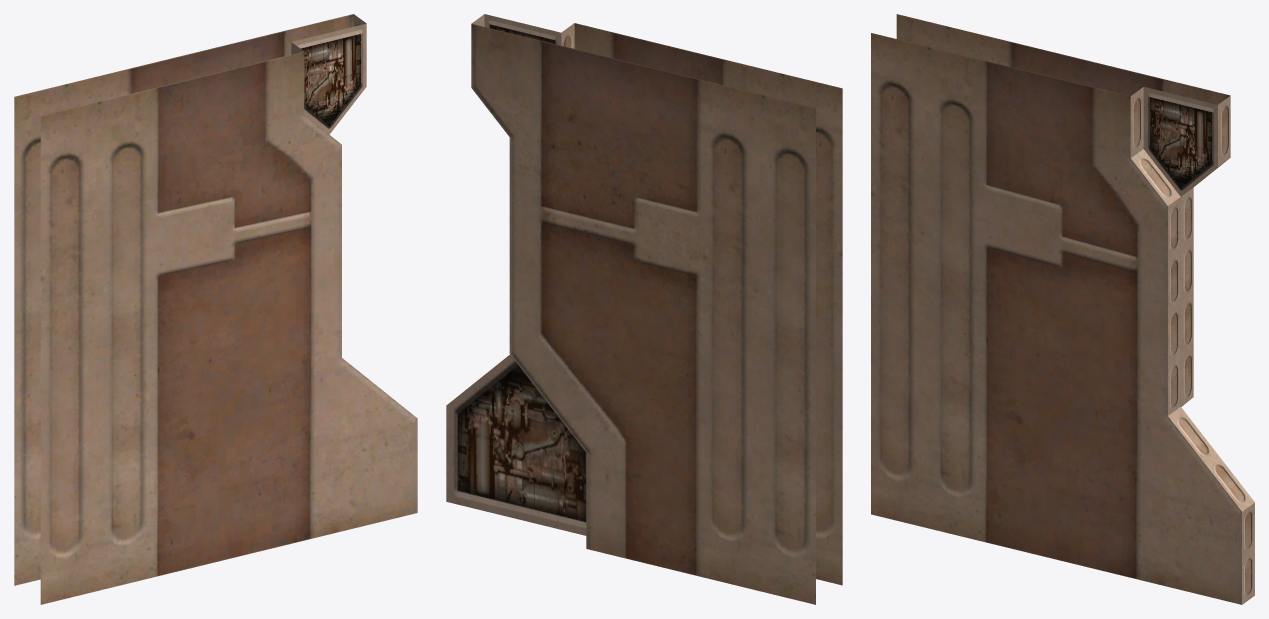
File: door_nboo_emp_s01.fbx
3 views of the same model, side by side, from view 1: azimuth 30°, elevation 25°; view 2: azimuth 150°, elevation 25°; view 3: azimuth 330°, elevation 25° (orthographic). The views are drawn at different scales.
Visible parts, largest first — view 1: mesh_node; view 2: mesh_node; view 3: mesh_node.
Part boxes in pixels (x1,y1,x2,y2): mesh_node: [14, 14, 417, 604]; mesh_node: [446, 14, 842, 604]; mesh_node: [871, 14, 1254, 604].
Bounding box in the file's own units: 2.5 × 3.1 × 0.3.
